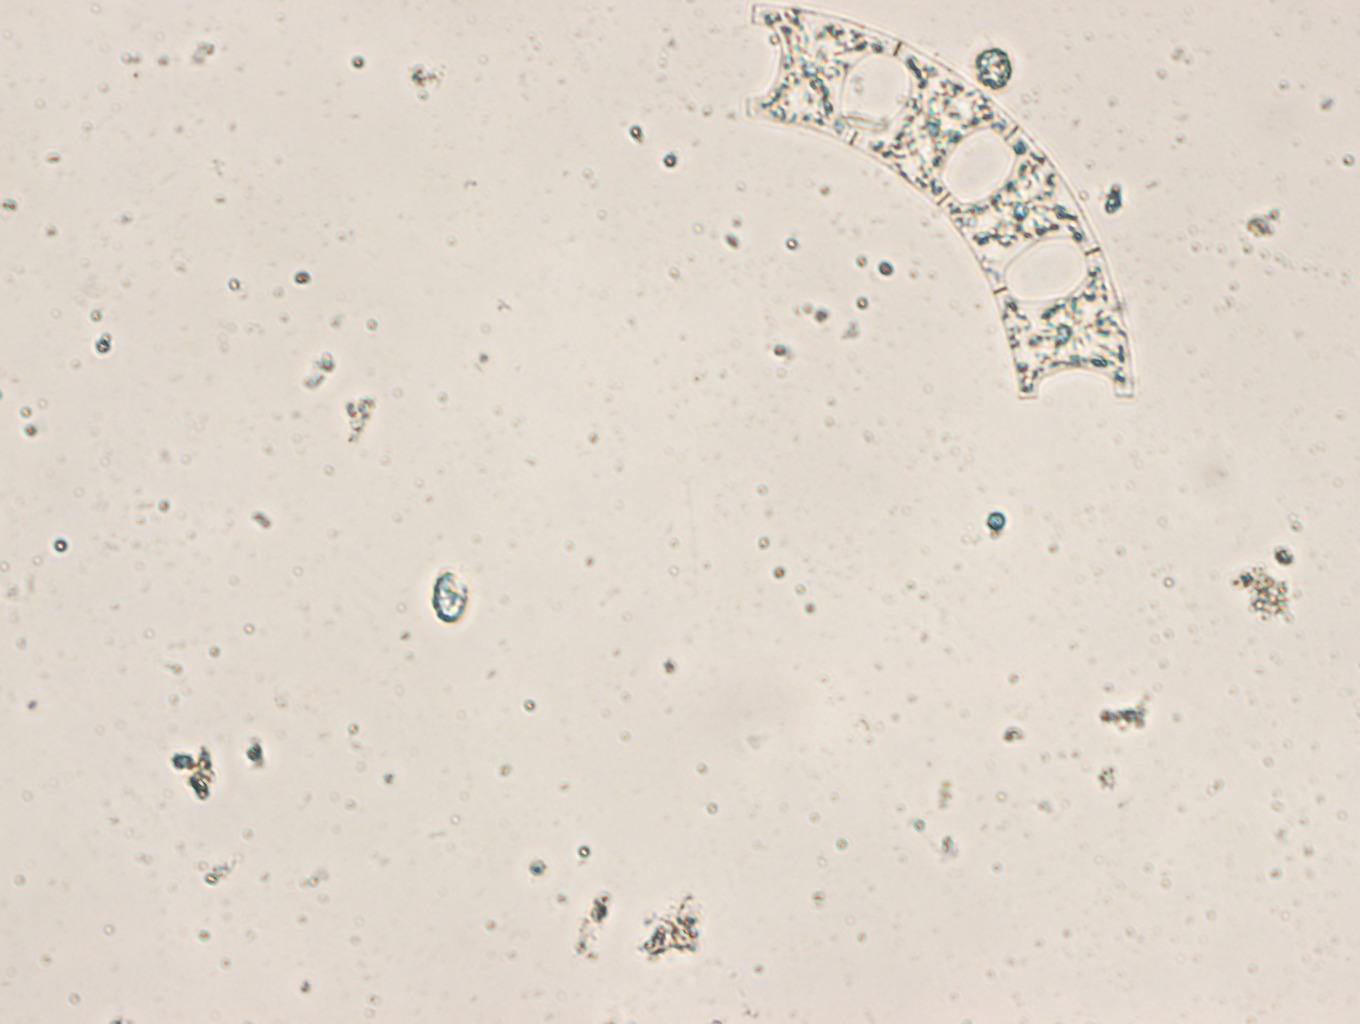eucampia: (734, 1, 1140, 409)
